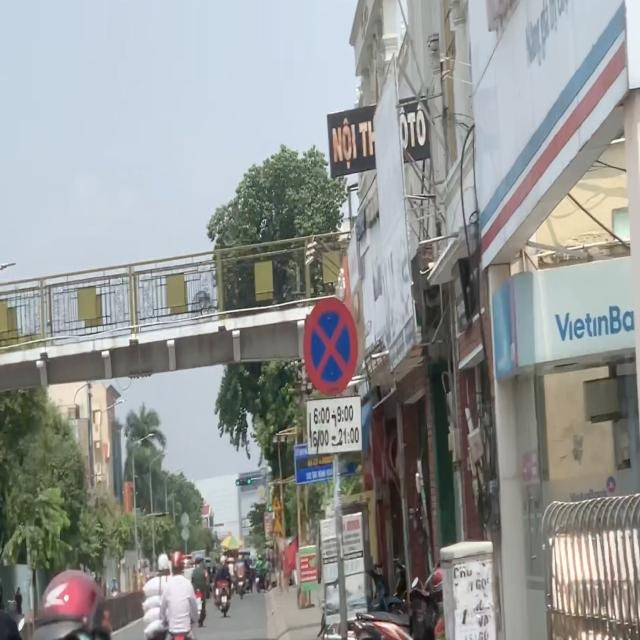Cam dung va do: (303, 296, 358, 396)
